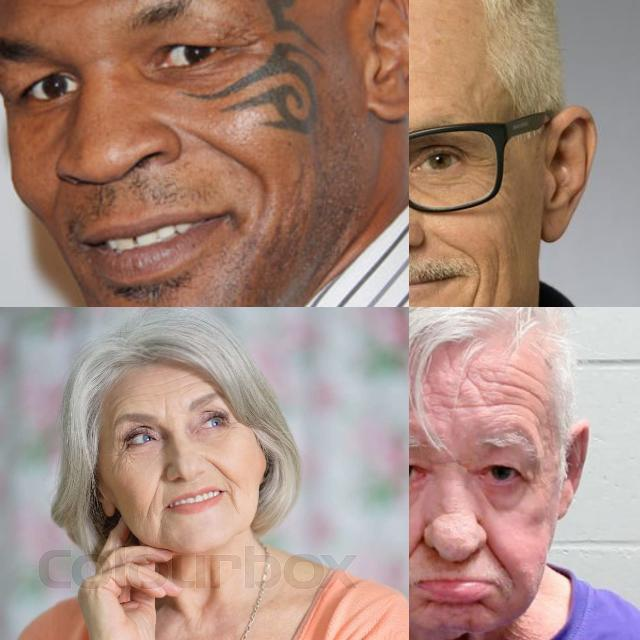chin: (419, 595, 457, 615), (473, 598, 497, 616)
crows_feet: (226, 28, 264, 62), (462, 148, 494, 182), (113, 438, 131, 470), (516, 467, 536, 489)
forehead: (147, 372, 211, 396), (494, 372, 530, 398), (69, 0, 123, 14), (432, 385, 458, 413), (511, 360, 539, 384), (464, 375, 486, 405)
frown_line: (159, 396, 177, 422)
gummy_smile: (188, 124, 264, 176), (478, 538, 514, 576), (145, 468, 171, 512), (440, 232, 476, 260), (208, 456, 236, 484), (409, 534, 426, 566)
masseter: (485, 238, 509, 296)
sad_smile: (147, 504, 175, 544), (463, 273, 487, 307), (223, 484, 245, 516)
